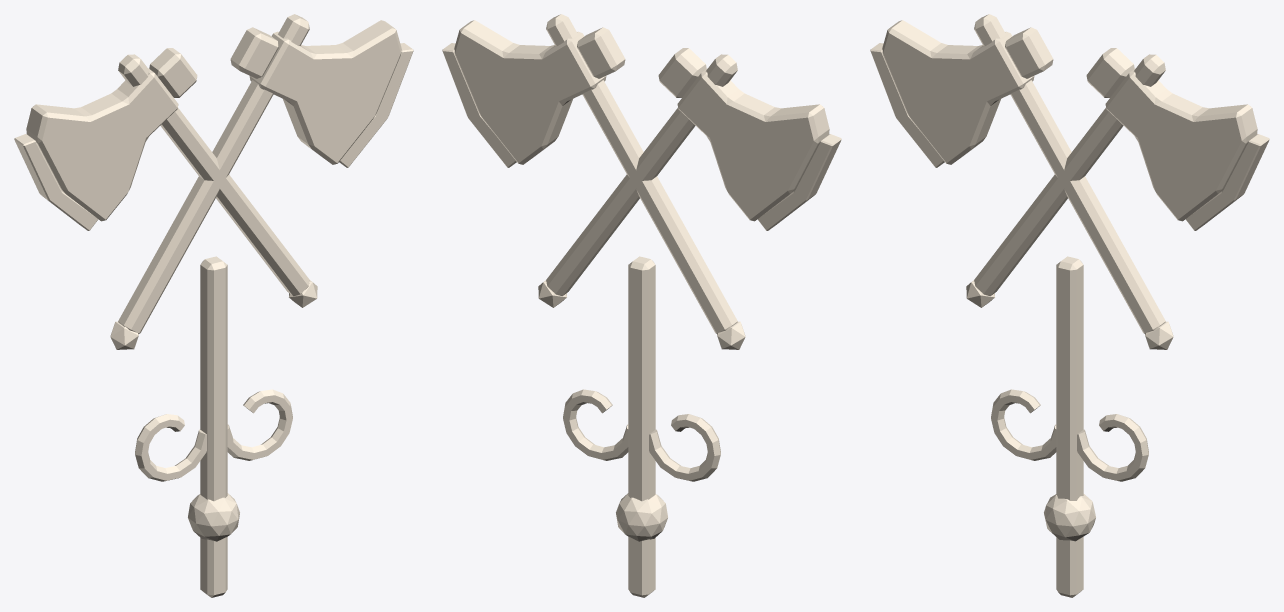
Rendered from SM_VK_Emblem_Ridge_Axe.fbx.
3 views of the same model, side by side, from view 1: azimuth 30°, elevation 25°; view 2: azimuth 150°, elevation 25°; view 3: azimuth 330°, elevation 25° (orthographic).
Parts seen in each view (by area): view 1: SM_VK_Emblem_Ridge_Axe.001; view 2: SM_VK_Emblem_Ridge_Axe.001; view 3: SM_VK_Emblem_Ridge_Axe.001.
Boxes of the visible parts, x1=… form: SM_VK_Emblem_Ridge_Axe.001: x1=14, y1=14, x2=413, y2=597; SM_VK_Emblem_Ridge_Axe.001: x1=442, y1=14, x2=841, y2=597; SM_VK_Emblem_Ridge_Axe.001: x1=870, y1=14, x2=1269, y2=597.
Size of the model in its own units: 1.35 by 1.84 by 0.16.
